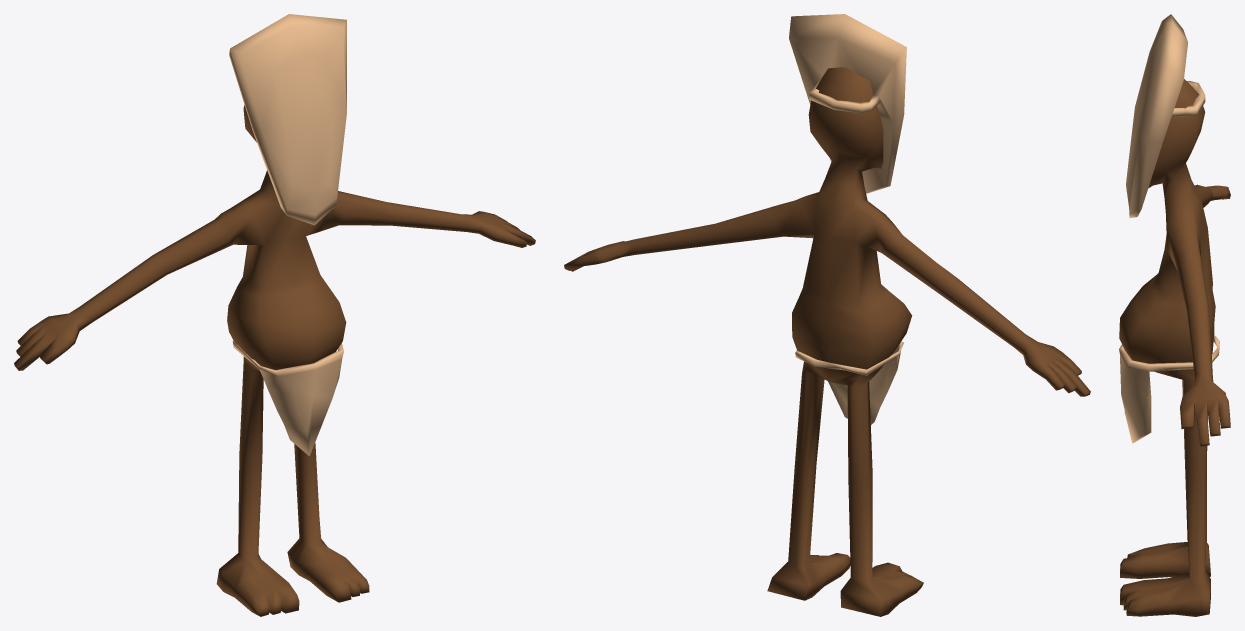
The model's file is Char.fbx.
The picture shows the model from 3 angles, left to right: view 1: azimuth 30°, elevation 25°; view 2: azimuth 150°, elevation 25°; view 3: azimuth 270°, elevation 25°; orthographic projection. The views are drawn at different scales.
Visible parts, largest first — view 1: Body; view 2: Body; view 3: Body.
Part boxes in pixels (x1,y1,x2,y2): Body: [14, 14, 535, 616]; Body: [564, 14, 1090, 616]; Body: [1119, 14, 1230, 616].
Size of the model in its own units: 538 by 570 by 103.
